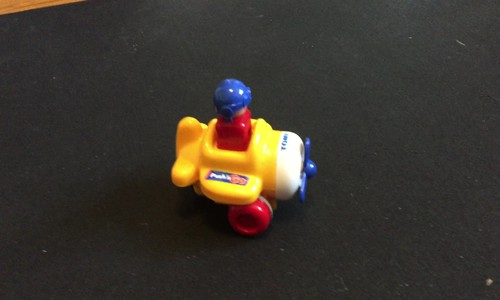toy: (161, 75, 317, 233)
